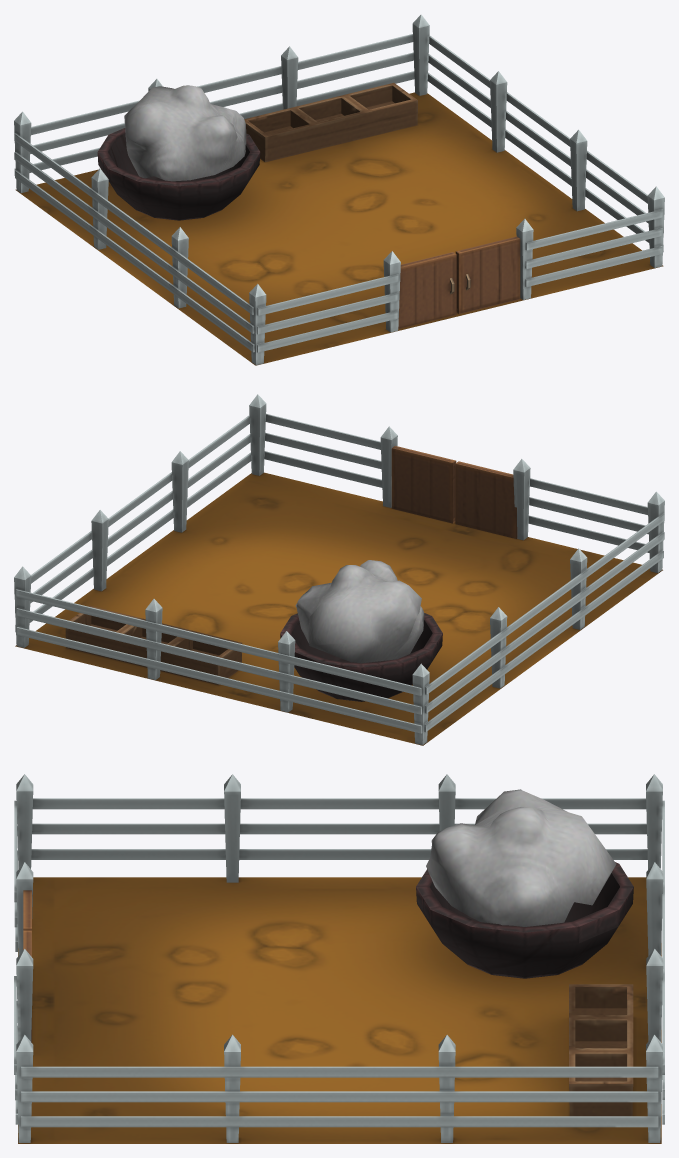
The model's file is SheepLodgeNormal.fbx.
The picture shows the model from 3 angles, top to bottom: view 1: azimuth 30°, elevation 25°; view 2: azimuth 150°, elevation 25°; view 3: azimuth 270°, elevation 25°; orthographic projection. The views are drawn at different scales.
Parts seen in each view (by area): view 1: SheepNormal; view 2: SheepNormal; view 3: SheepNormal.
Part boxes in pixels (box(x1,y1,x2,y2)): SheepNormal: box(14, 14, 664, 365); SheepNormal: box(14, 394, 664, 745); SheepNormal: box(14, 774, 664, 1143).
Size of the model in its own units: 130 by 34.21 by 133.
1 material, 1 textured.
